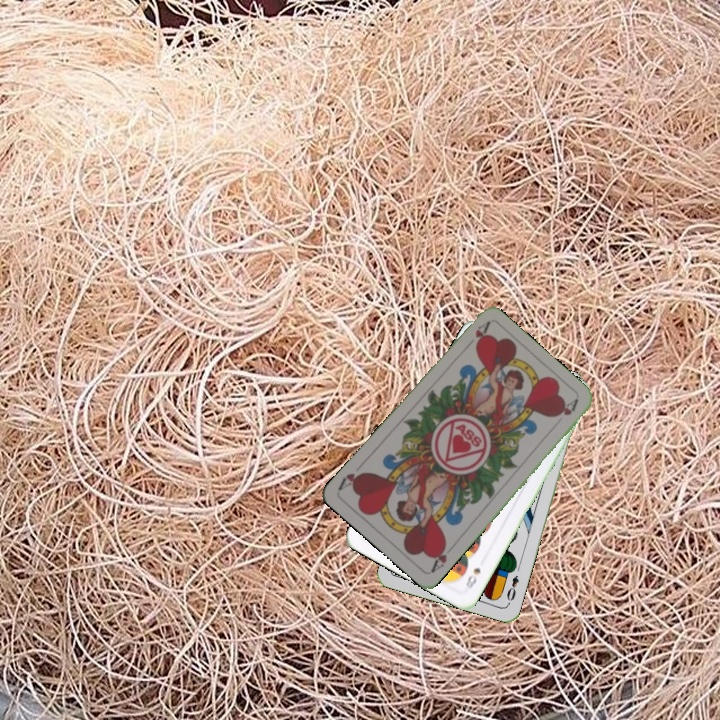EO: (502, 571, 521, 604)
HA: (461, 318, 492, 353), (427, 538, 450, 575)
S8: (462, 563, 483, 591)
